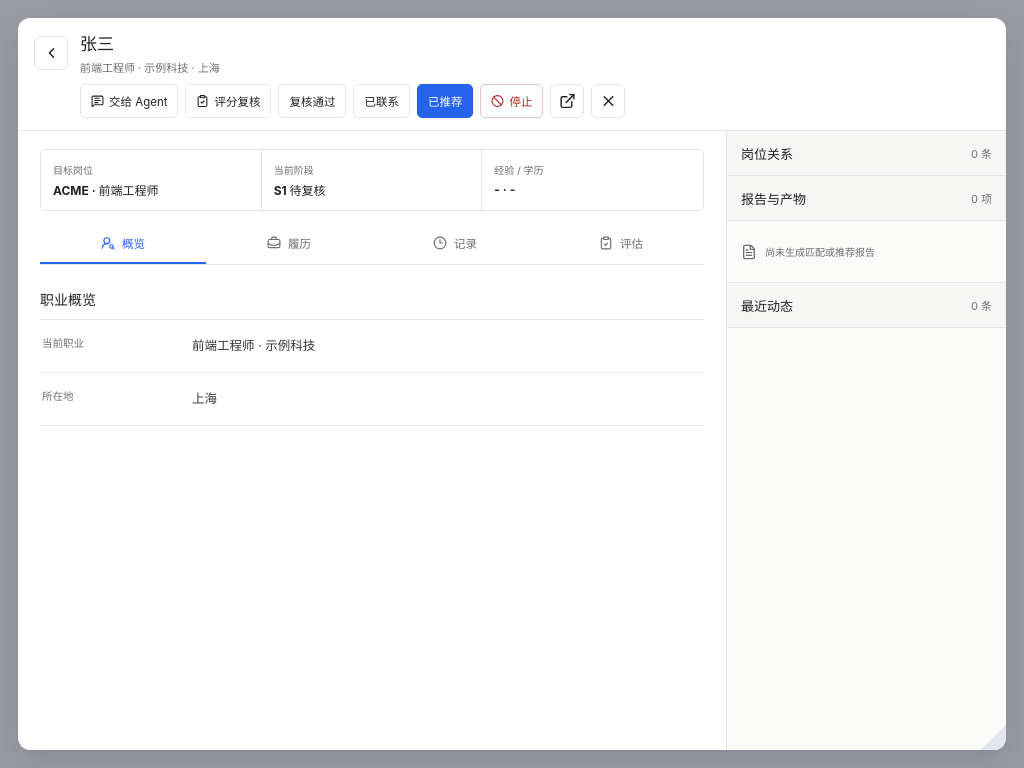
Test: 评分复核快捷记录（S4-5 N5） › 预检以 action=review 发起，确认对话框列出尺太严/人不行快捷结论
Click the button "评分复核" at (228, 101), box [186,84,272,118]
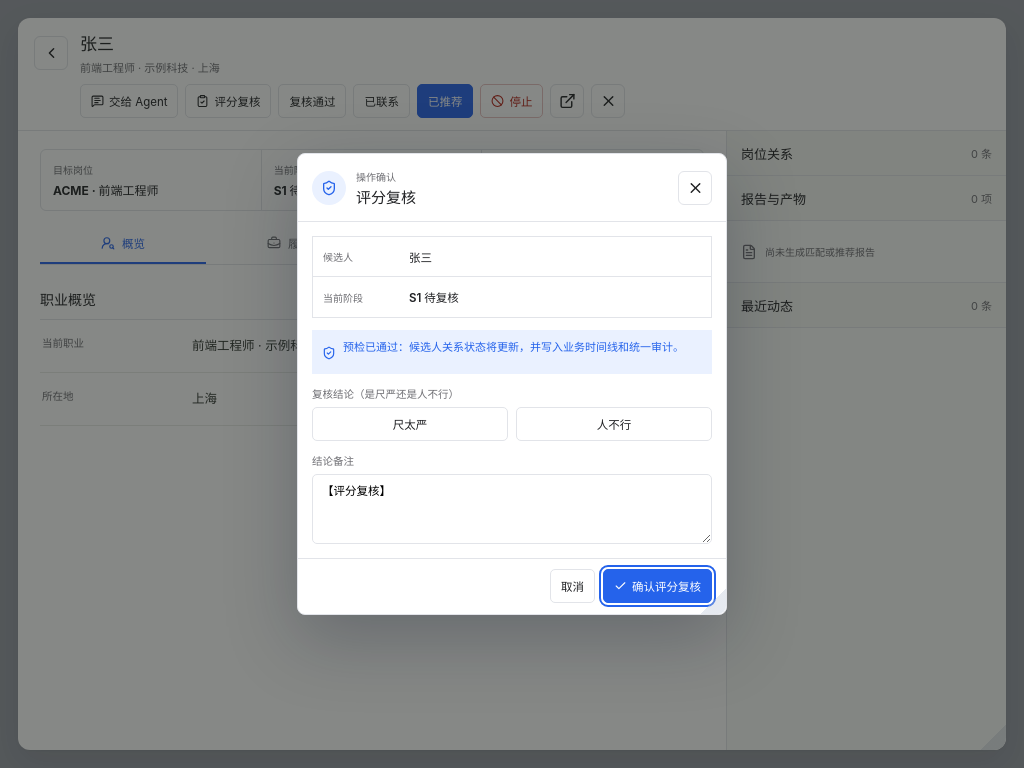
Result: the heading "评分复核" is shown at [356,188,416,207]
Result: the text "复核结论（是尺严还是人不行）" is shown at [312,388,459,401]
Result: the button "尺太严" is shown at [312,407,508,441]
